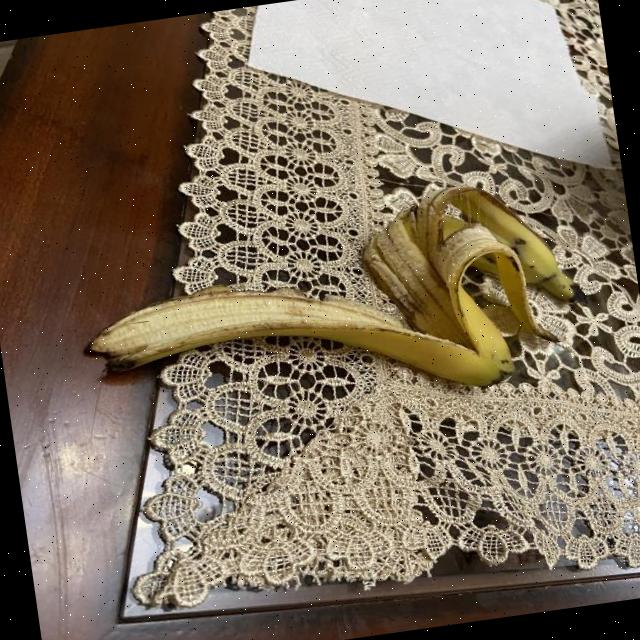banana-peel: (71, 166, 587, 442)
